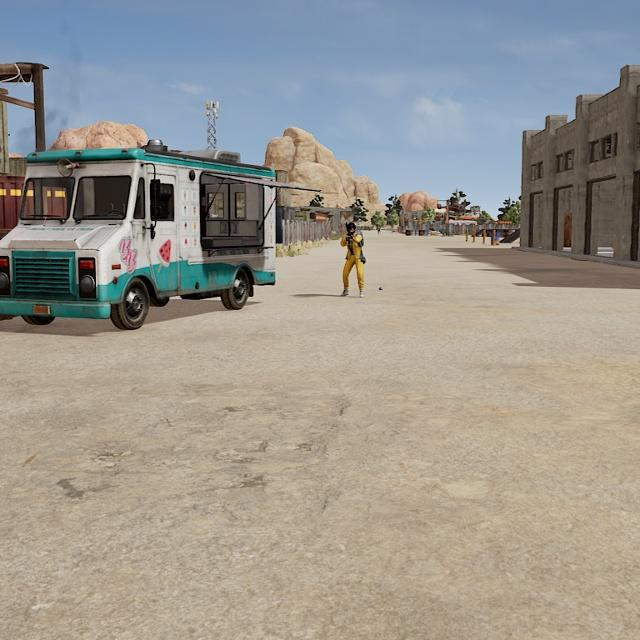head: (345, 220, 358, 236)
people: (338, 217, 368, 301)
